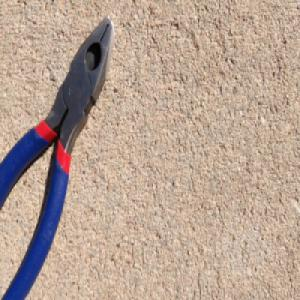Pliers: (0, 11, 118, 300)
